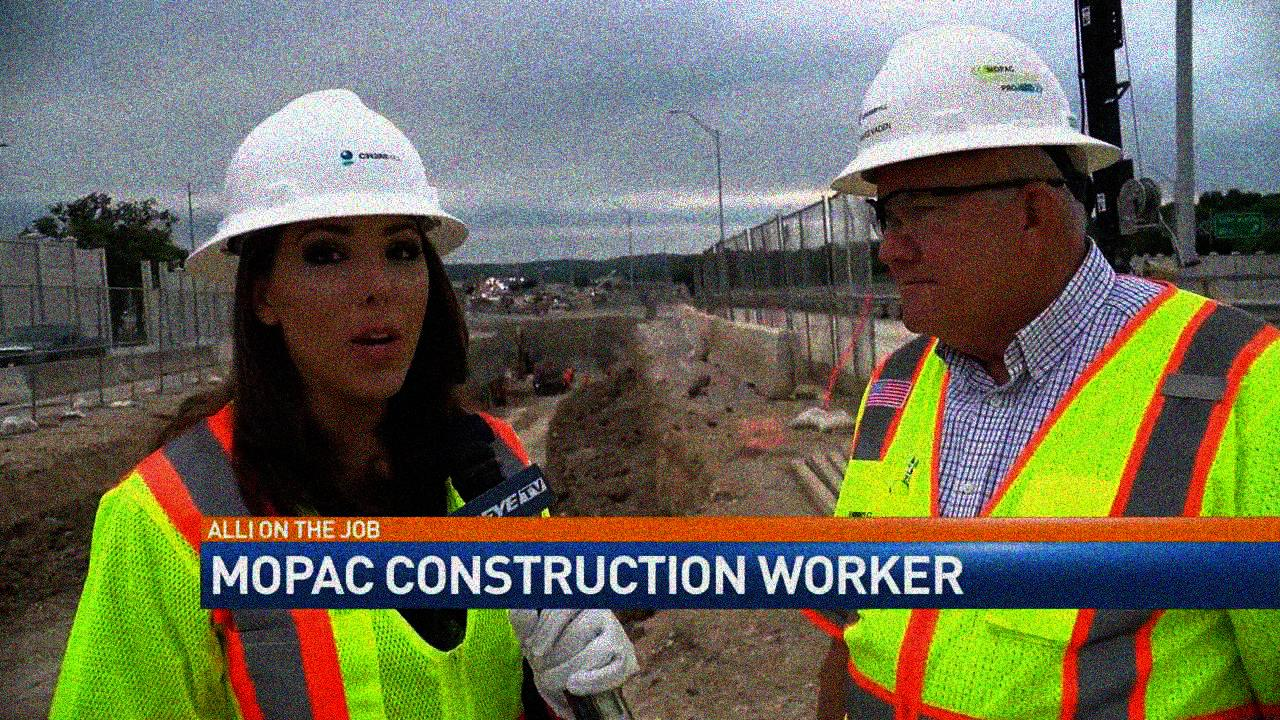helmet: (832, 19, 1128, 337), (179, 85, 472, 398)
